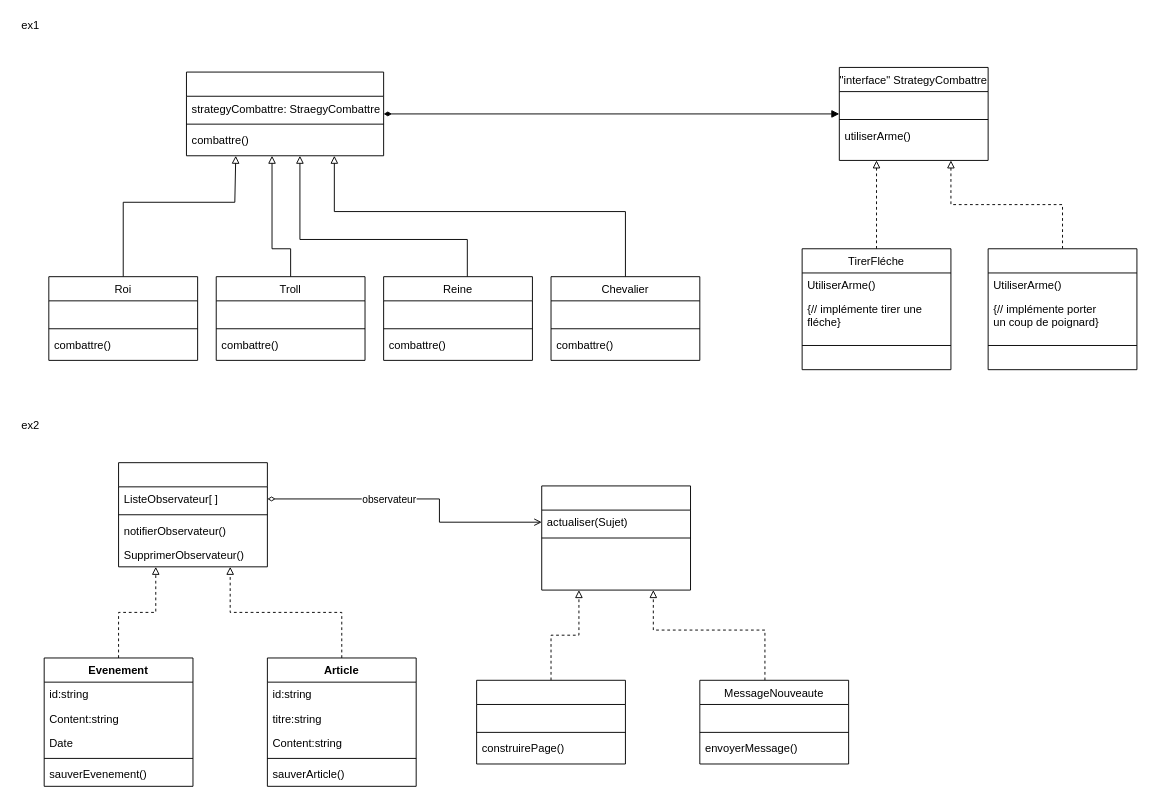
The diagram is 1153 pixels wide and 804 high, and some of its shapes have lost their labels. The box of each missing label's shape, as (x1, y1, x2, y2) in pixels:
"interface" Observateur: (541, 485, 691, 590)
"interface" Sujet: (118, 462, 267, 567)
PageNouveaute: (476, 679, 625, 764)
Personnage: (186, 71, 384, 156)
Poignarder: (987, 248, 1137, 370)
